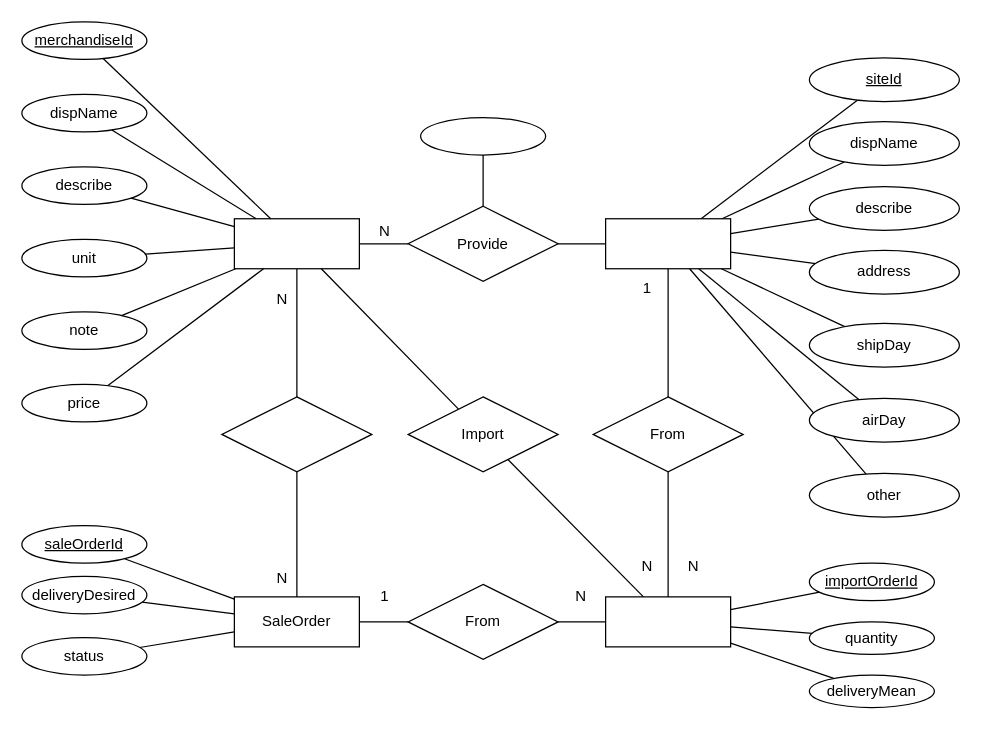
This 981x730 diagram has some shape labels left out. Each missing label, with the centre of its shape:
"ImportOrder" goes at pixel 667 621.
"instock" goes at pixel 482 135.
"Merchandise" goes at pixel 296 243.
"SaleOrderDetail" goes at pixel 296 434.
"Site" goes at pixel 667 243.
